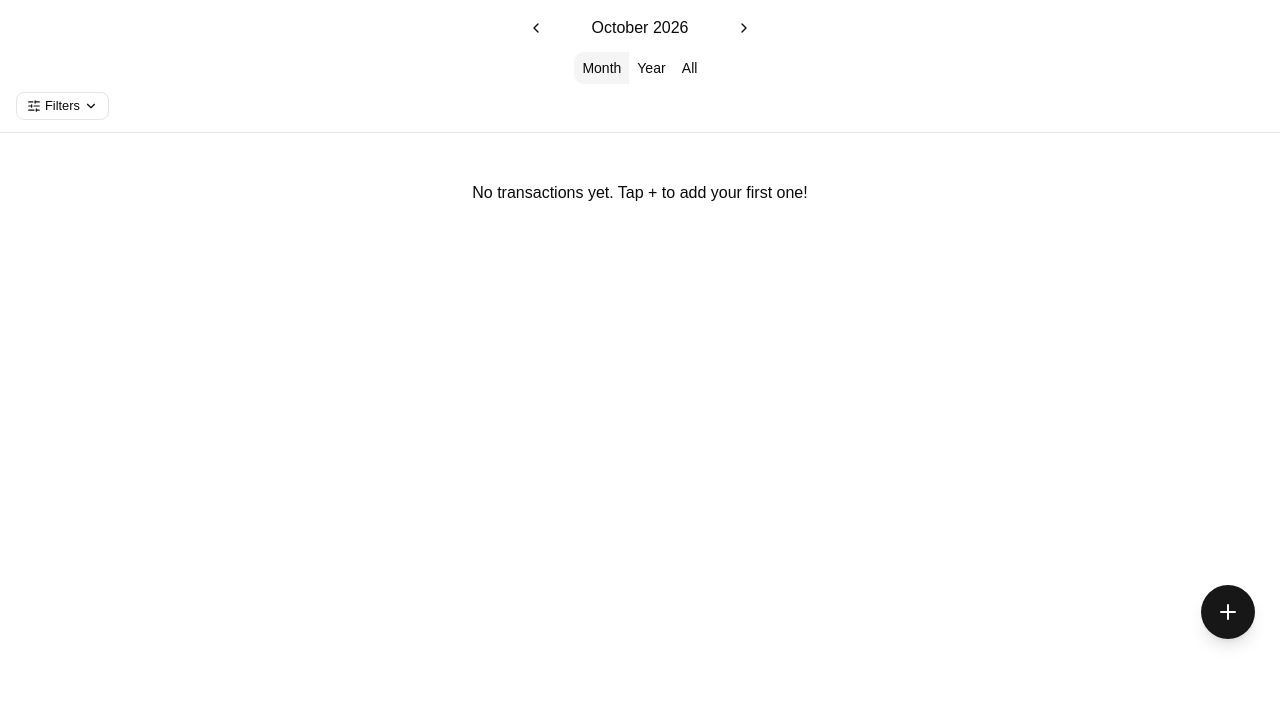
Test: TransactionsPage › opens the transaction form modal when the FAB is clicked
Click the button named "add transaction": (1228, 612) [1200,584,1256,640]
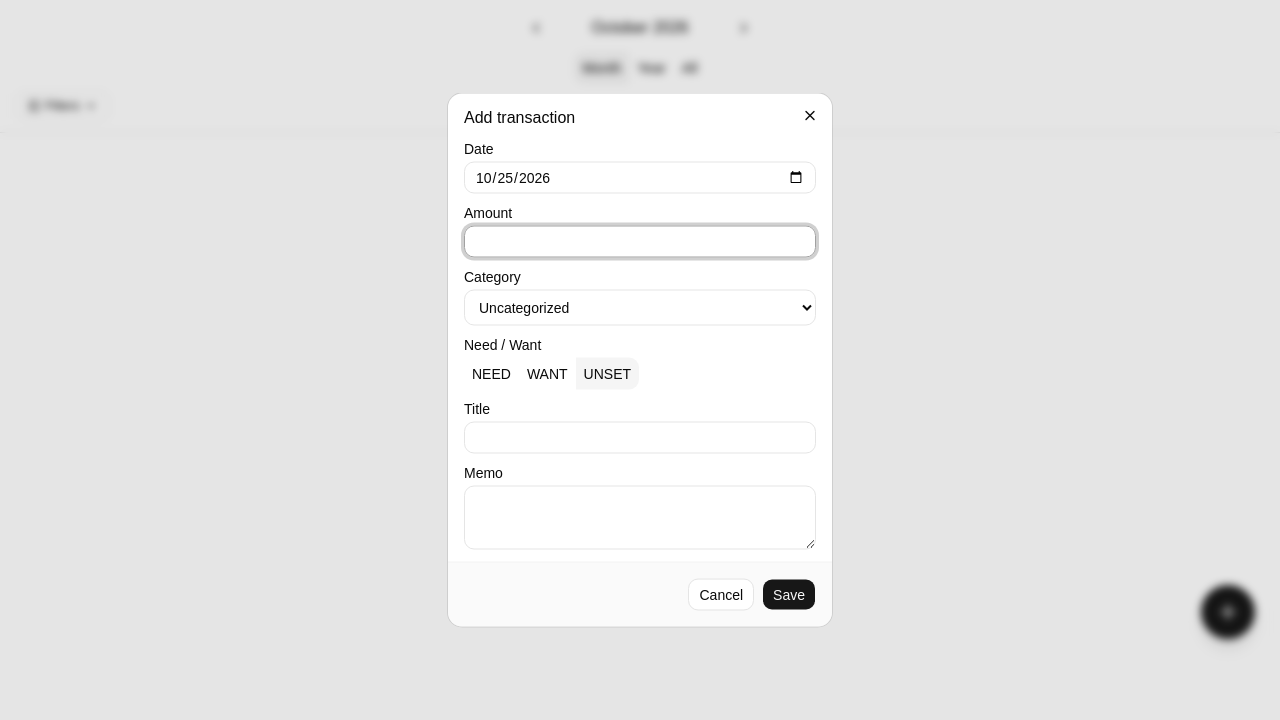
Check: the dialog "Add transaction" is shown, box [448,94,832,626]
